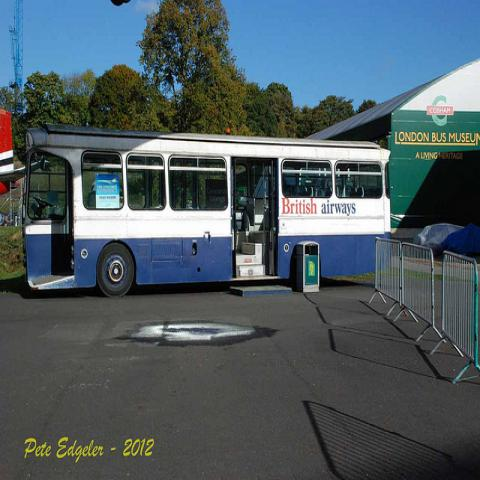bus: (21, 127, 391, 296)
